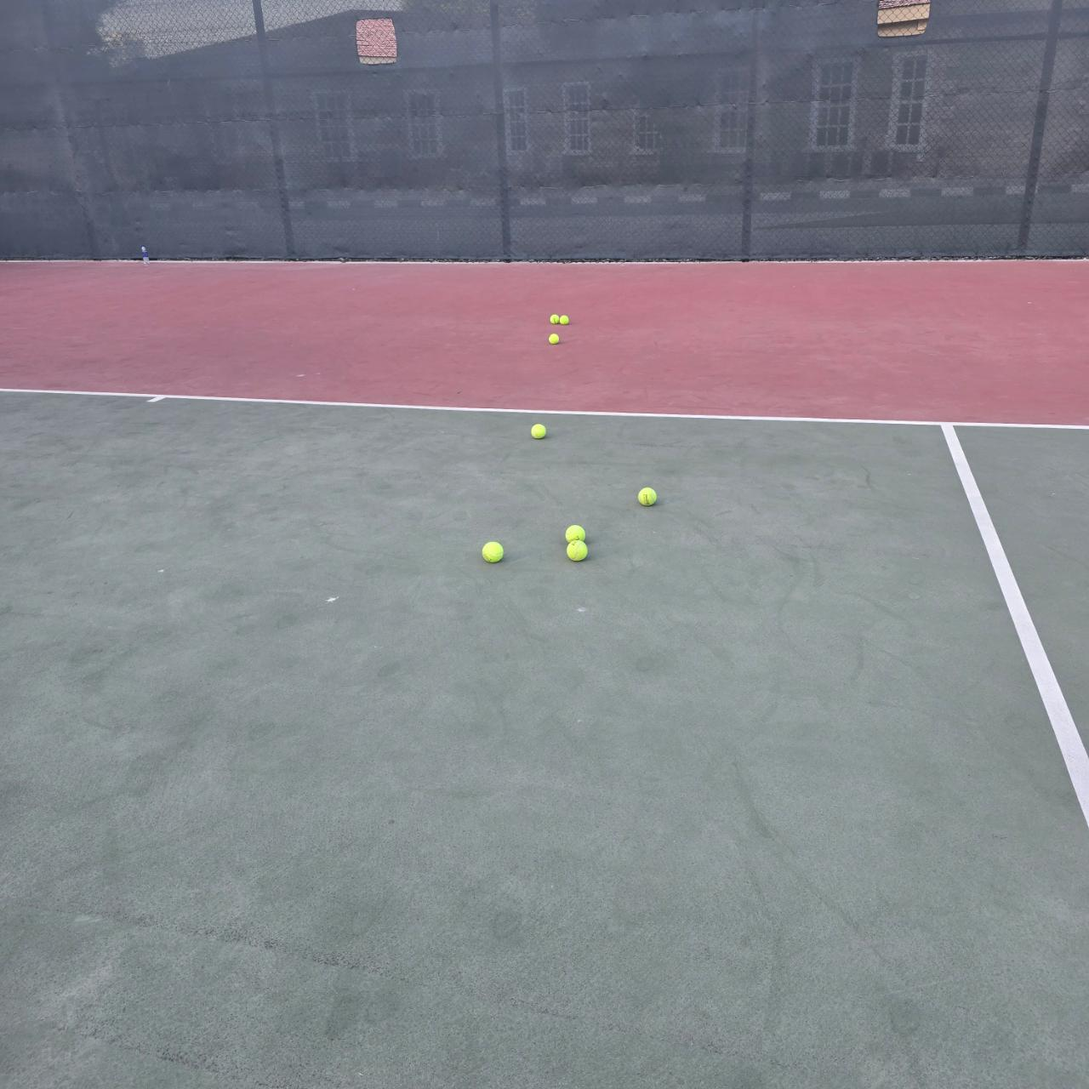tennis-ball: (482, 539, 506, 563), (567, 539, 590, 561), (638, 485, 659, 506), (565, 522, 587, 541), (531, 421, 548, 439), (549, 334, 559, 345), (550, 313, 560, 324), (560, 315, 569, 325)
